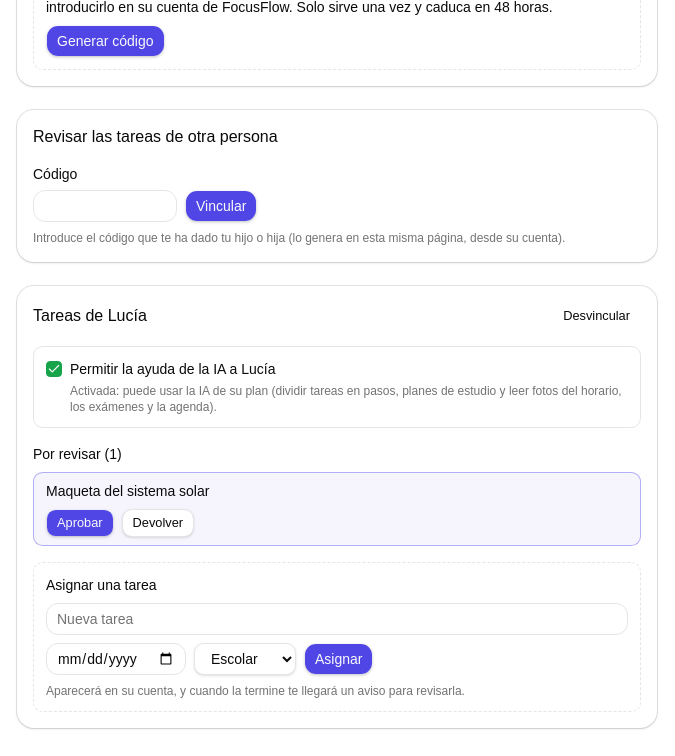
PaginaFamilia › aprueba una tarea pendiente de revisión
(page scrolled)
Expected: the heading "Por revisar (1)" is shown, 33,446 -> 122,462
Click the button "Aprobar" at (80, 523), box 46,509 -> 114,537
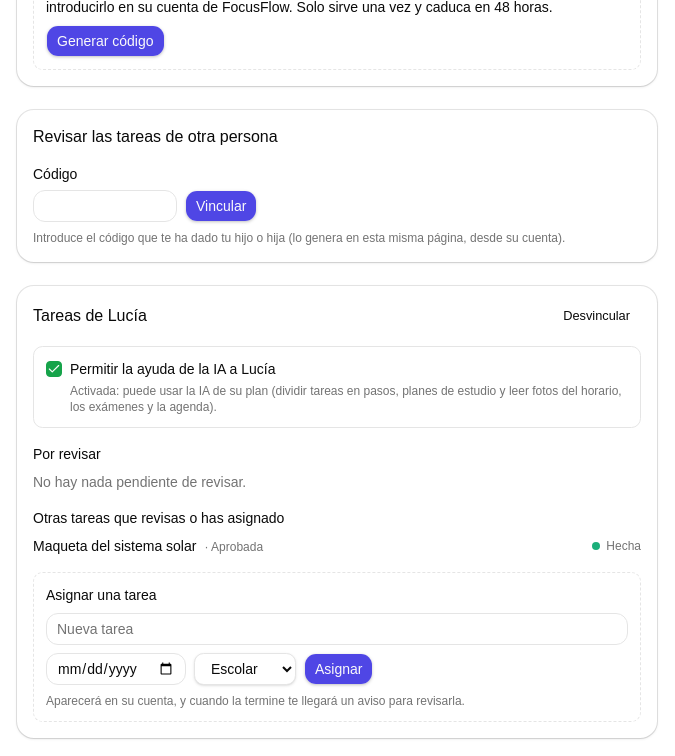
Expected: the text "No hay nada pendiente de revisar." is shown, 33,474 -> 246,490
